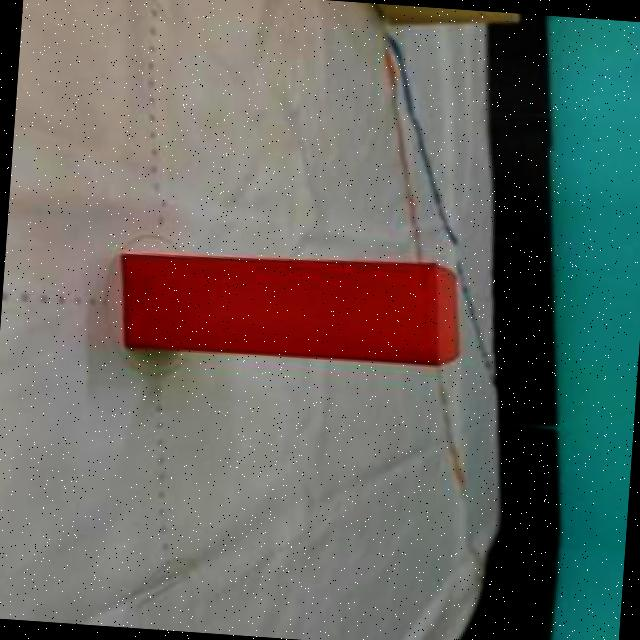redbox: (114, 240, 467, 370), (119, 240, 122, 256)
